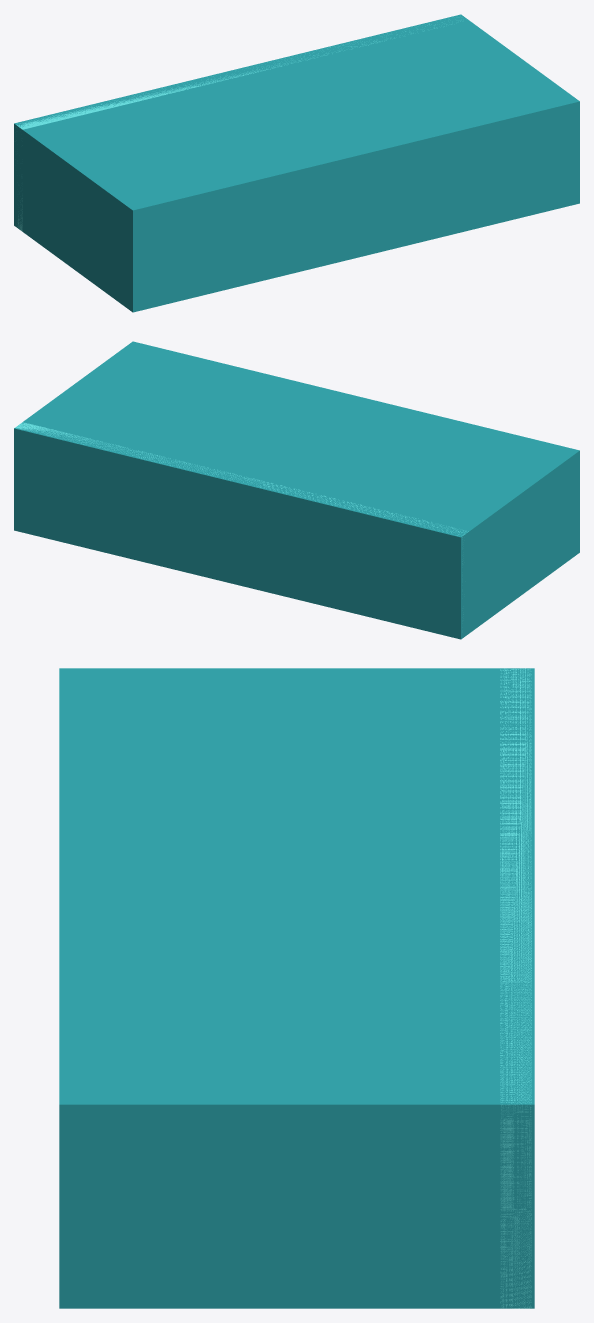
Rendered from wall-cabinets.glb.
3 renders of one model, top to bottom at view 1: azimuth 30°, elevation 25°; view 2: azimuth 150°, elevation 25°; view 3: azimuth 270°, elevation 25°, orthographic. The views are drawn at different scales.
Parts seen in each view (by area): view 1: world; view 2: world; view 3: world.
Part boxes in pixels (left/top/right/bottom): world: left=14, top=14, right=579, bottom=312; world: left=14, top=341, right=579, bottom=639; world: left=59, top=668, right=534, bottom=1308.
Bounding box in the file's own units: 1.65 × 0.3825 × 0.76.
